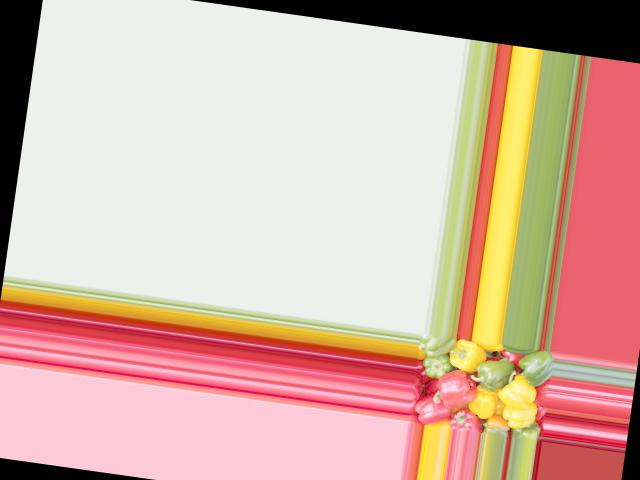bell_pepper: (508, 421, 539, 441)
